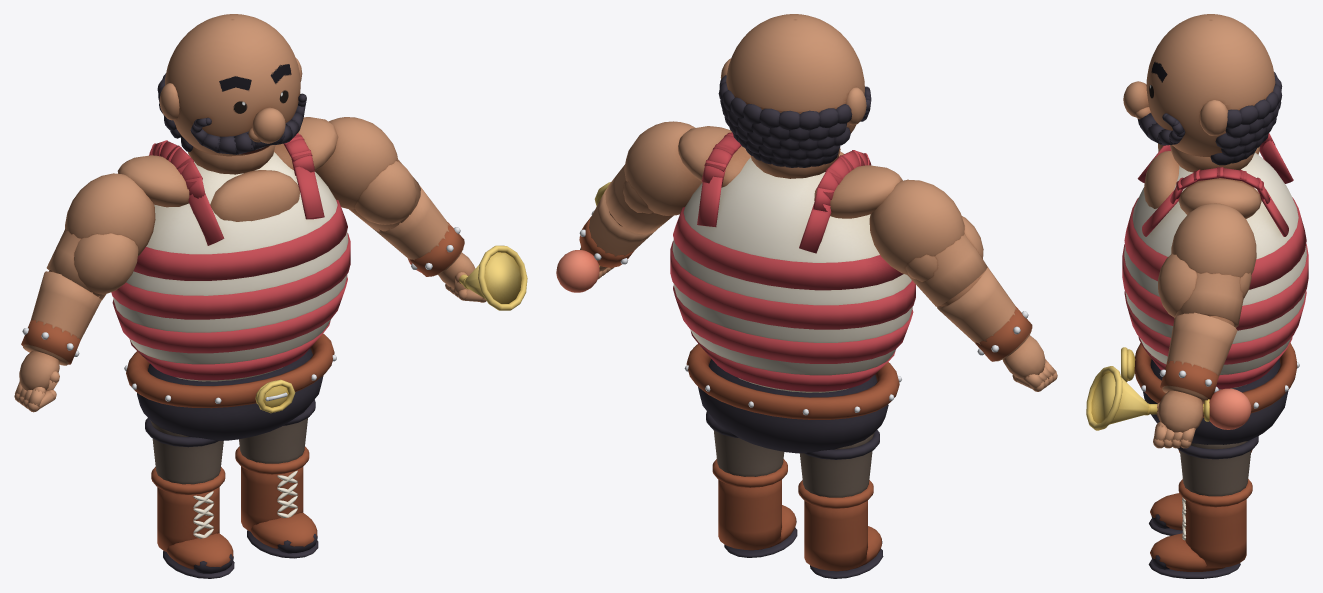
File: clown_v2_static.glb
The picture shows the model from 3 angles, left to right: view 1: azimuth 30°, elevation 25°; view 2: azimuth 150°, elevation 25°; view 3: azimuth 270°, elevation 25°; orthographic projection. The views are drawn at different scales.
Parts seen in each view (by area): view 1: body, head; view 2: body, head; view 3: body, head.
Boxes of the visible parts, x1,y1,x2,y2 form: body: [14, 58, 527, 578]; head: [165, 14, 300, 156]; body: [556, 58, 1057, 578]; head: [726, 14, 864, 133]; body: [1086, 72, 1308, 578]; head: [1146, 14, 1275, 156].
Bounding box in the file's own units: 1.78 × 1.9 × 0.7227.
2 materials, 2 textured.
